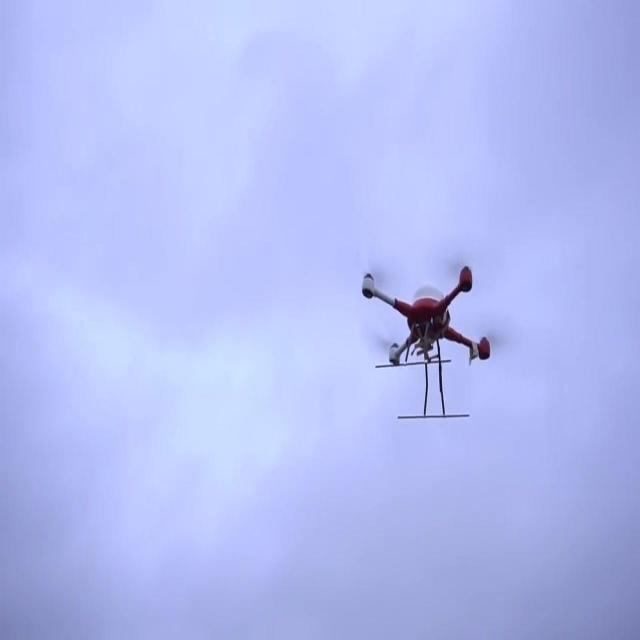UAV: (362, 265, 502, 419)
